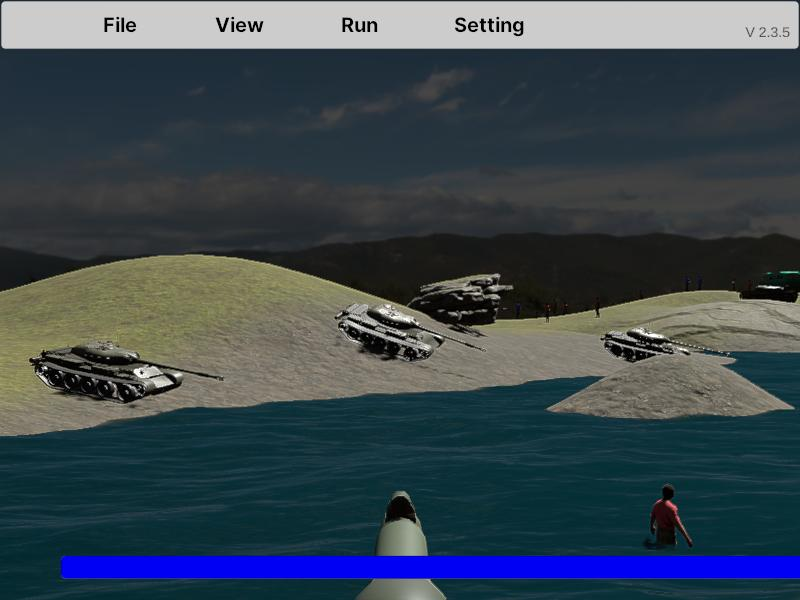Human: (650, 484, 692, 598)
Tank: (29, 339, 226, 404), (334, 302, 488, 364), (599, 327, 728, 366)
